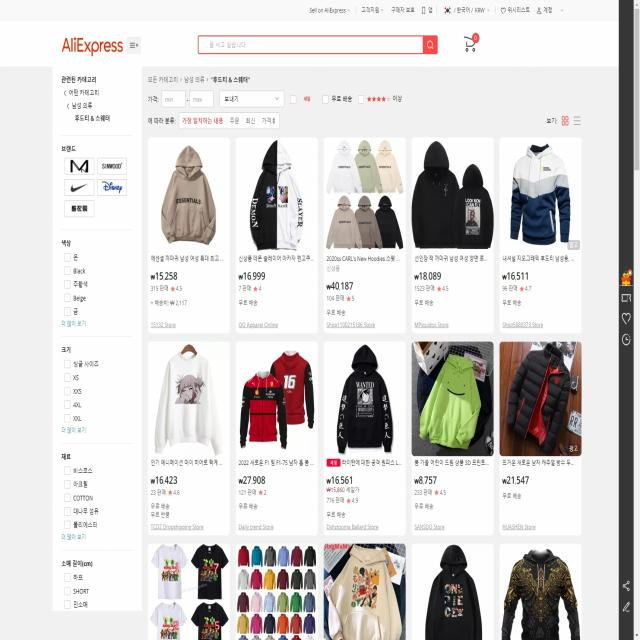menu-bar: (305, 2, 567, 20)
search: (196, 29, 440, 58)
